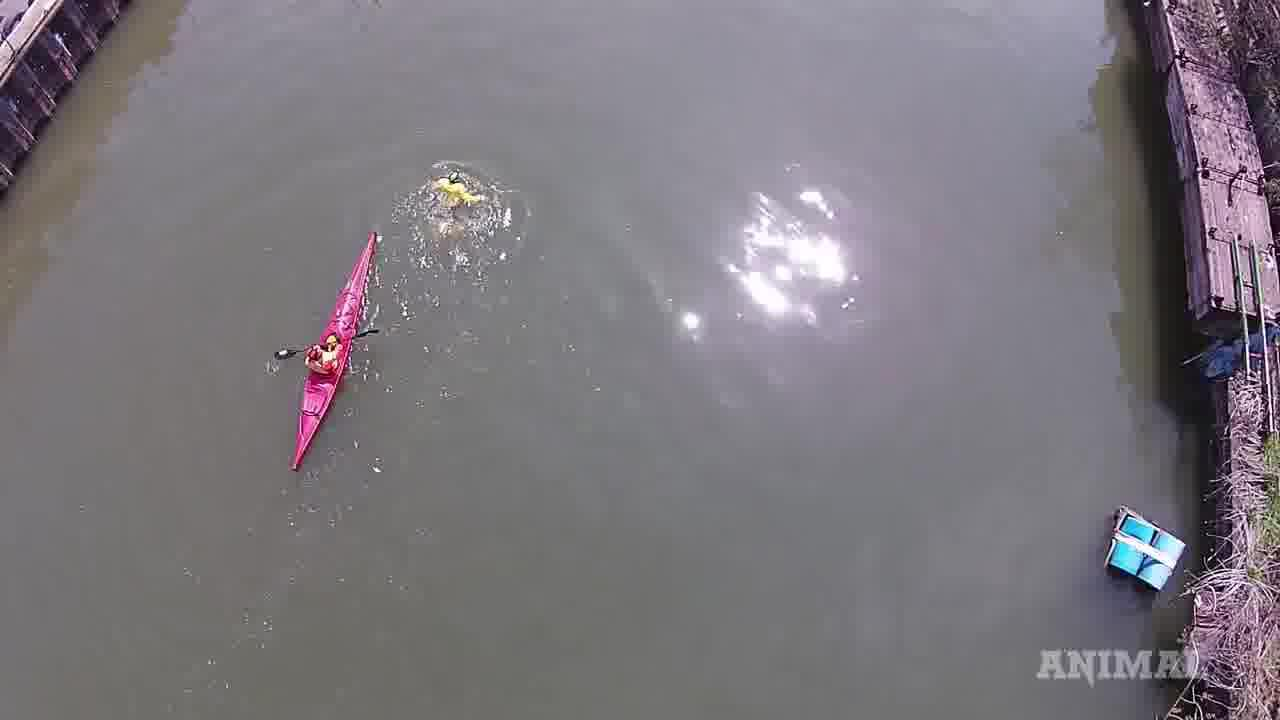human: (435, 160, 494, 219)
